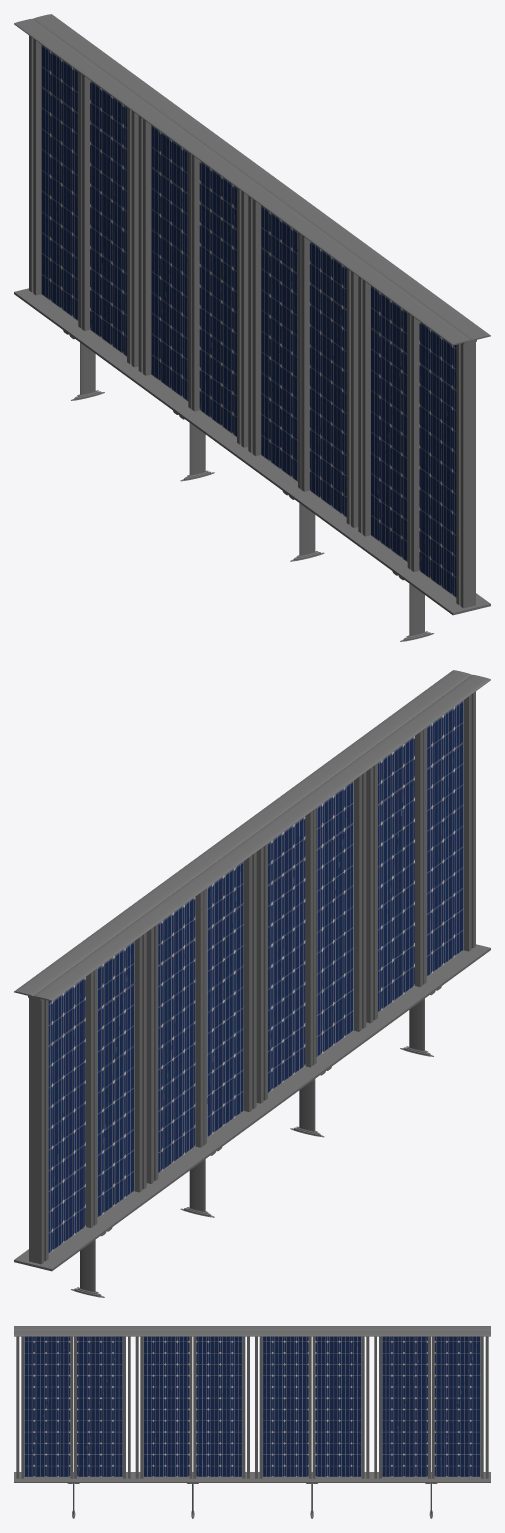
The model's file is verticalPanelM90.glb.
3 views of the same model, one above another, from view 1: azimuth 30°, elevation 25°; view 2: azimuth 150°, elevation 25°; view 3: azimuth 270°, elevation 25° (orthographic). The views are drawn at different scales.
Parts seen in each view (by area): view 1: panelfree.006, panelfree, panelfree.005, panelfree.004; view 2: panelfree.004, panelfree.005, panelfree, panelfree.006; view 3: panelfree, panelfree.005, panelfree.004, panelfree.006.
Boxes of the visible parts, x1=… form: panelfree.006: x1=343, y1=255, x2=490, y2=641; panelfree: x1=123, y1=94, x2=270, y2=481; panelfree.005: x1=233, y1=175, x2=380, y2=561; panelfree.004: x1=14, y1=14, x2=160, y2=400; panelfree.004: x1=14, y1=911, x2=161, y2=1297; panelfree.005: x1=234, y1=750, x2=381, y2=1137; panelfree: x1=124, y1=831, x2=271, y2=1217; panelfree.006: x1=344, y1=670, x2=490, y2=1056; panelfree: x1=252, y1=1326, x2=371, y2=1518; panelfree.005: x1=133, y1=1326, x2=252, y2=1518; panelfree.004: x1=371, y1=1326, x2=490, y2=1518; panelfree.006: x1=14, y1=1326, x2=133, y2=1518.
Size of the model in its own units: 0.2 by 1.7 by 4.
6 materials, 3 textured.
